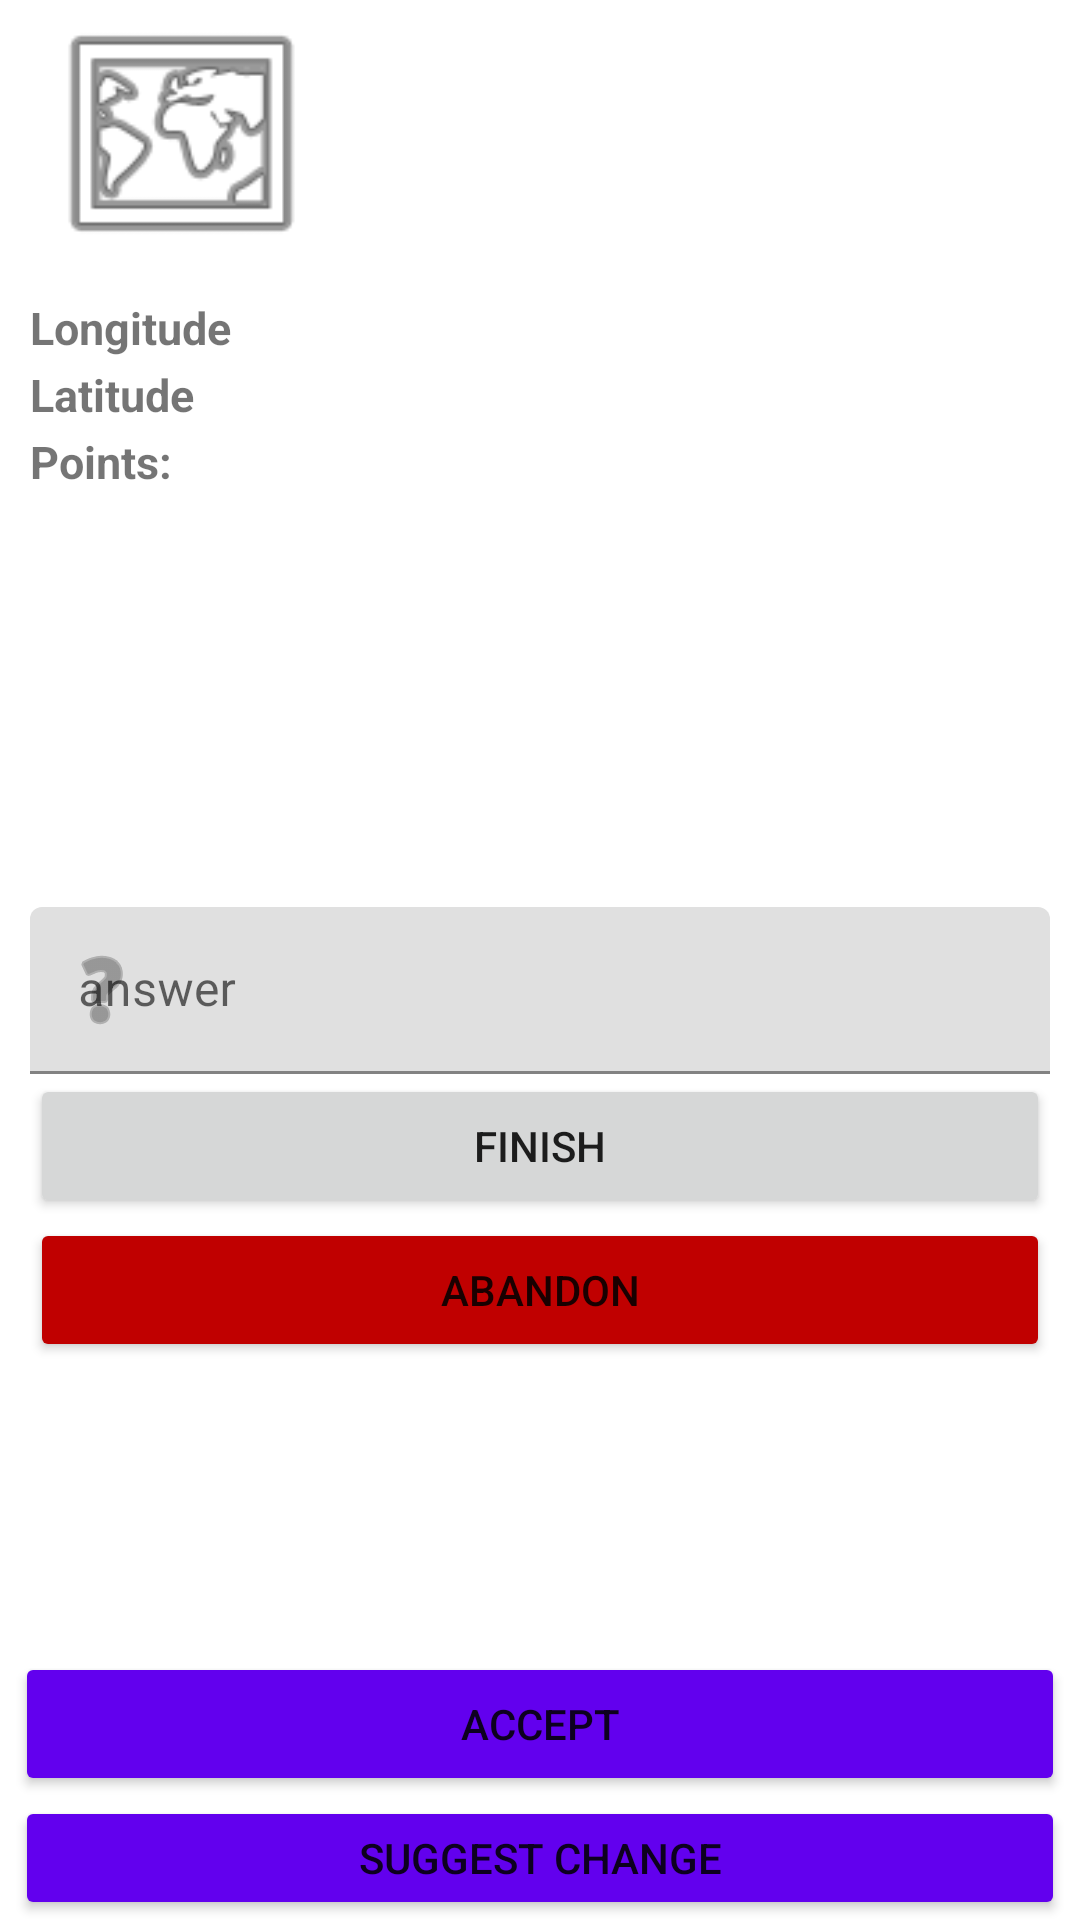

Icons on this 1080w x 1920h Android screen, each with its box as (x1, y1, x2, y2):
mapmode: (70, 35, 293, 232)
